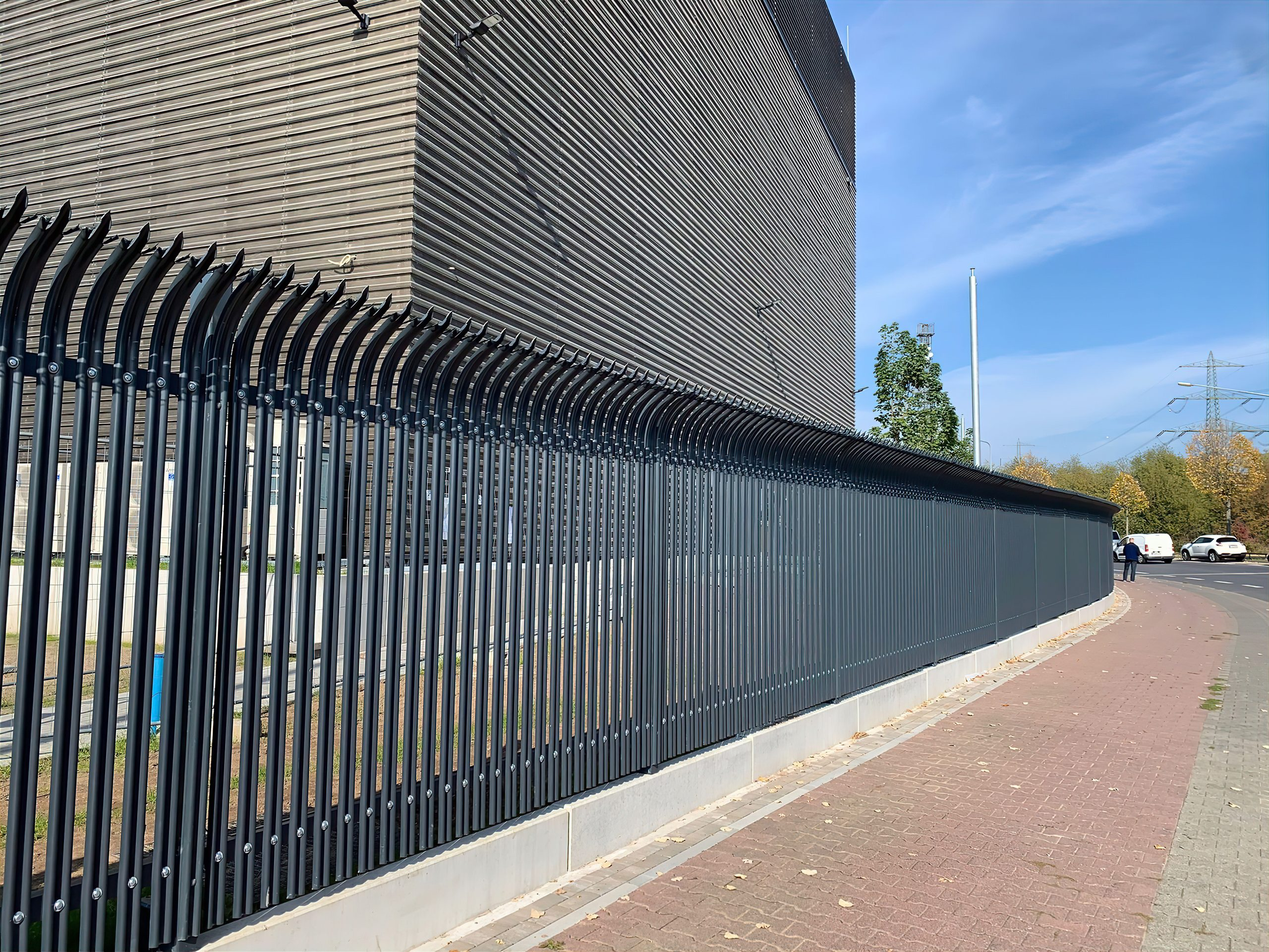Fence: (23, 323, 1131, 932)
